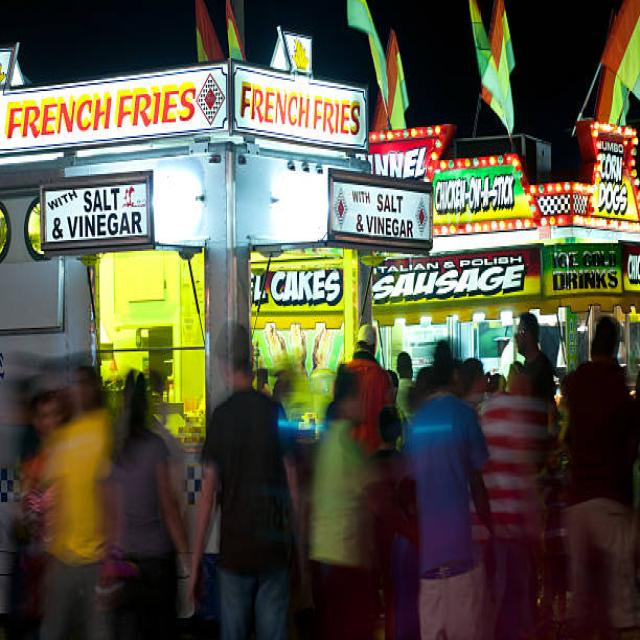Emperan: (0, 36, 449, 548)
